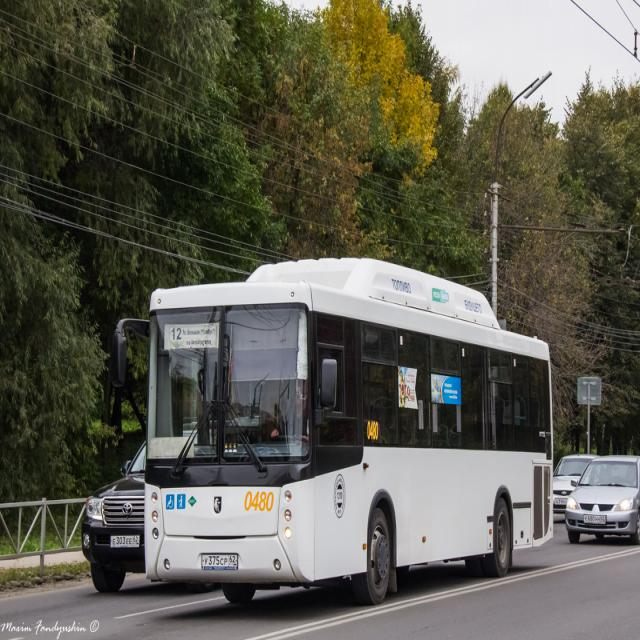number-of-bus: (172, 327, 183, 342)
